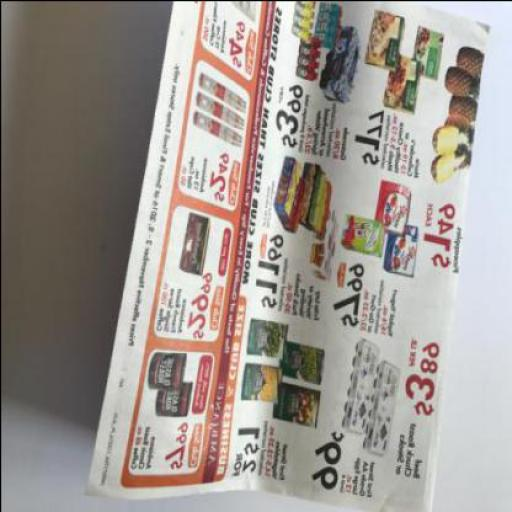paper: (85, 1, 492, 511)
